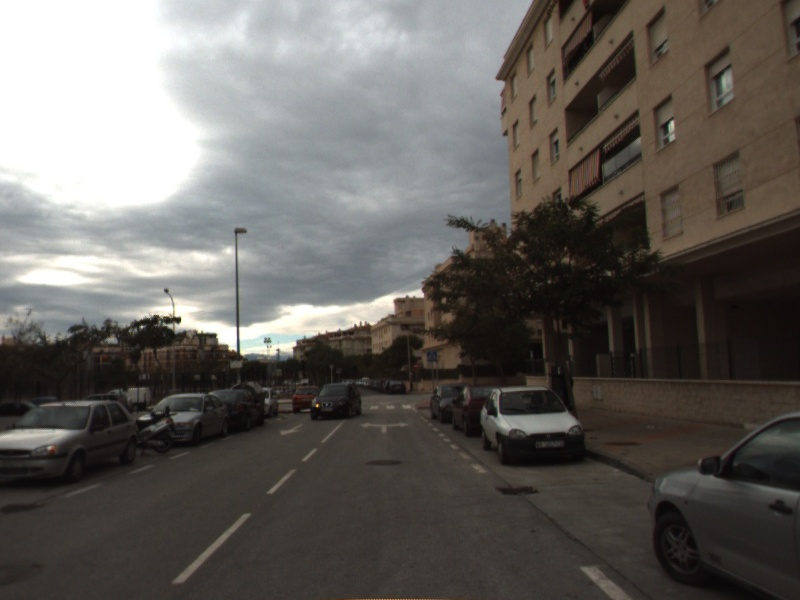LEFT_RIGHT: (359, 419, 411, 435)
